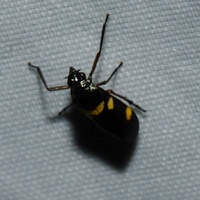insect: (28, 14, 145, 141)
